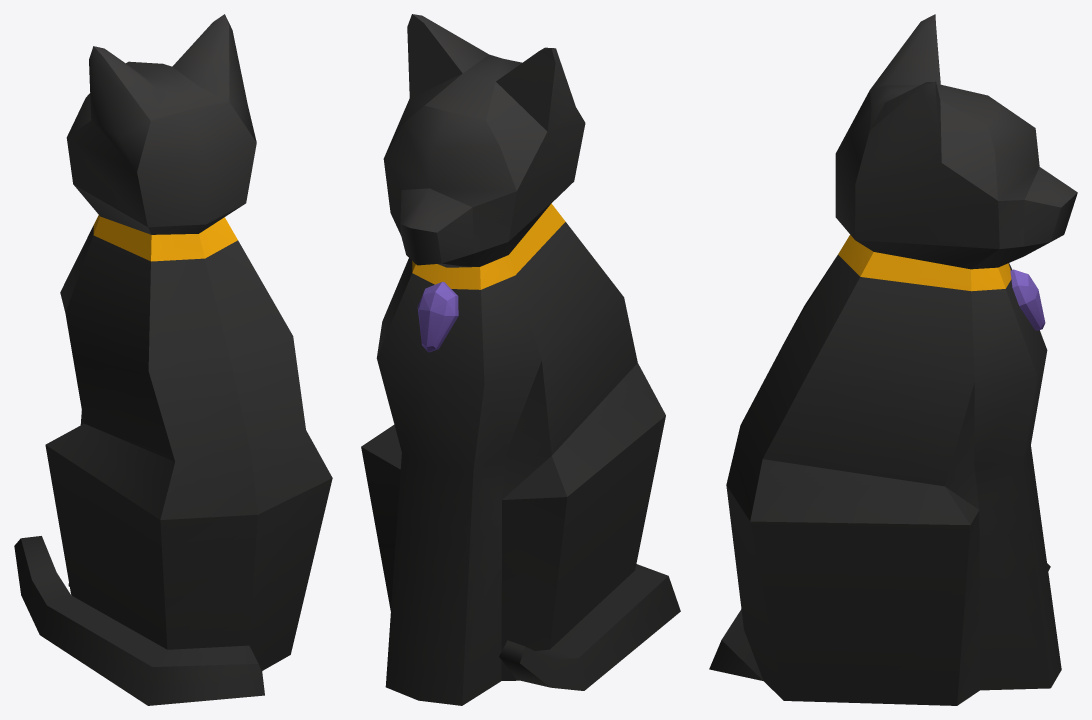
Rendered from Catfigurine_Collar.fbx.
3 views of the same model, side by side, from view 1: azimuth 30°, elevation 25°; view 2: azimuth 150°, elevation 25°; view 3: azimuth 270°, elevation 25° (orthographic). The views are drawn at different scales.
Visible parts, largest first — view 1: Catfigurine_WithCollar; view 2: Catfigurine_WithCollar; view 3: Catfigurine_WithCollar.
Part boxes in pixels (x1=…): Catfigurine_WithCollar: x1=14, y1=14, x2=332, y2=705; Catfigurine_WithCollar: x1=361, y1=14, x2=680, y2=705; Catfigurine_WithCollar: x1=709, y1=14, x2=1077, y2=705.
Bounding box in the file's own units: 7.68 × 21.01 × 11.3.
